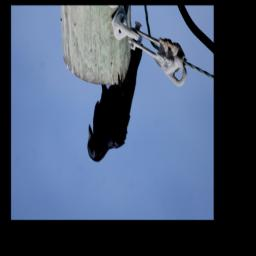Crow: (86, 41, 143, 162)
